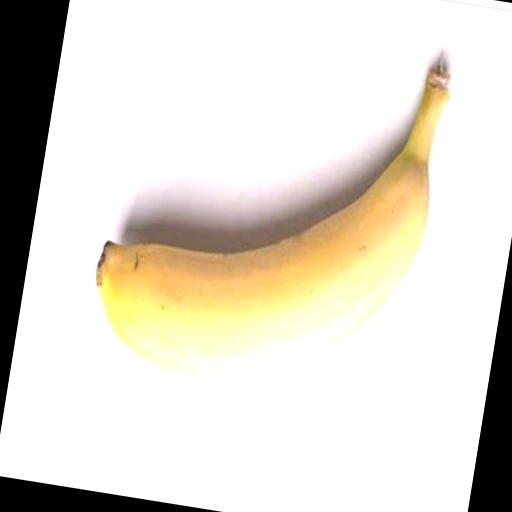fruit: (96, 63, 449, 382)
